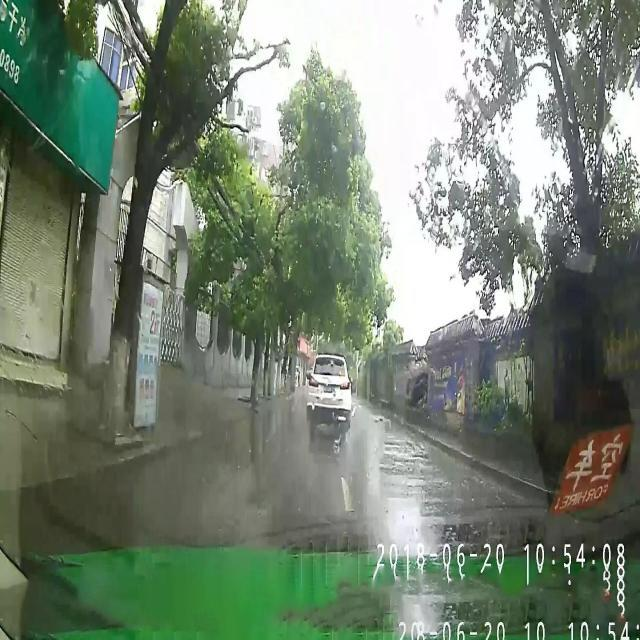car: (306, 352, 353, 425)
